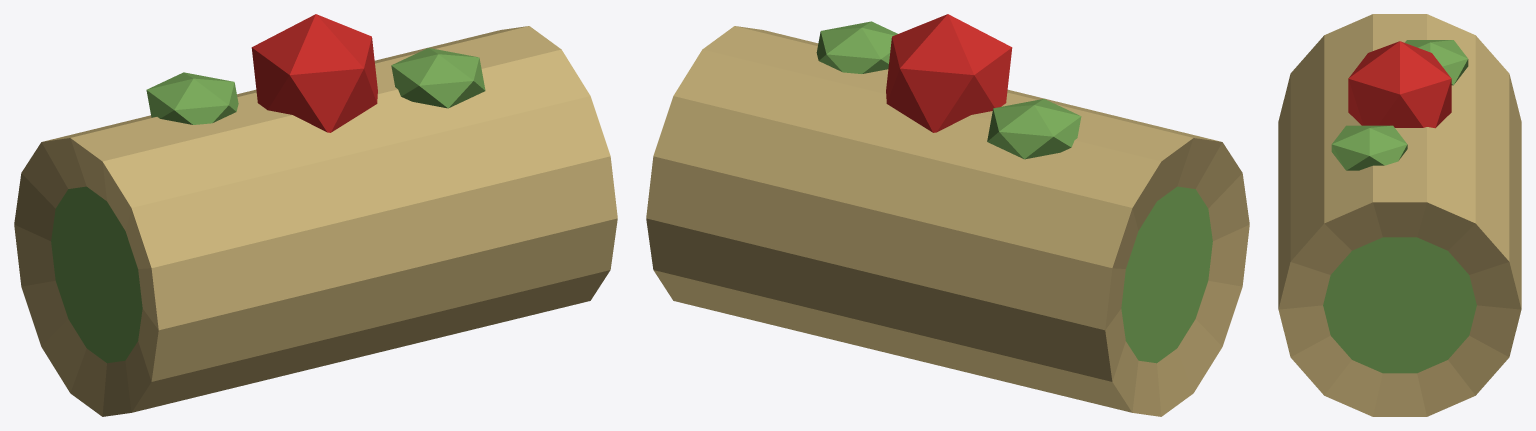
Rendered from Veggie_Wrap.glb.
3 views of the same model, side by side, from view 1: azimuth 30°, elevation 25°; view 2: azimuth 150°, elevation 25°; view 3: azimuth 270°, elevation 25° (orthographic). The views are drawn at different scales.
Visible parts, largest first — view 1: _I_VeggieWrap; view 2: _I_VeggieWrap; view 3: _I_VeggieWrap.
Boxes of the visible parts, x1=… form: _I_VeggieWrap: x1=14, y1=14, x2=617, y2=416; _I_VeggieWrap: x1=646, y1=14, x2=1249, y2=416; _I_VeggieWrap: x1=1278, y1=14, x2=1521, y2=416.
Size of the model in its own units: 0.22 by 0.1535 by 0.12.
